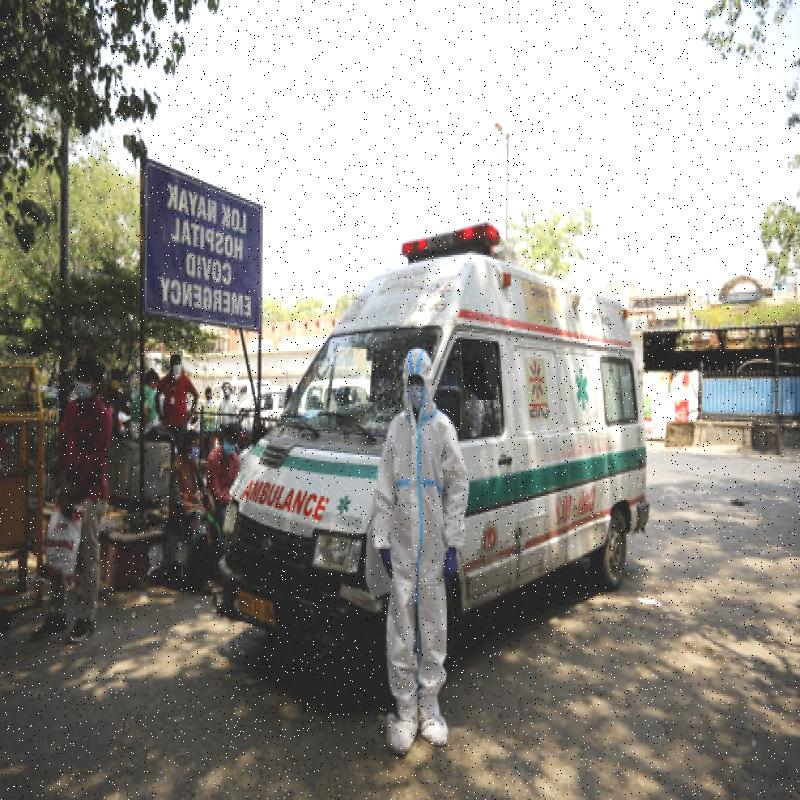ambulance: (202, 202, 665, 687)
